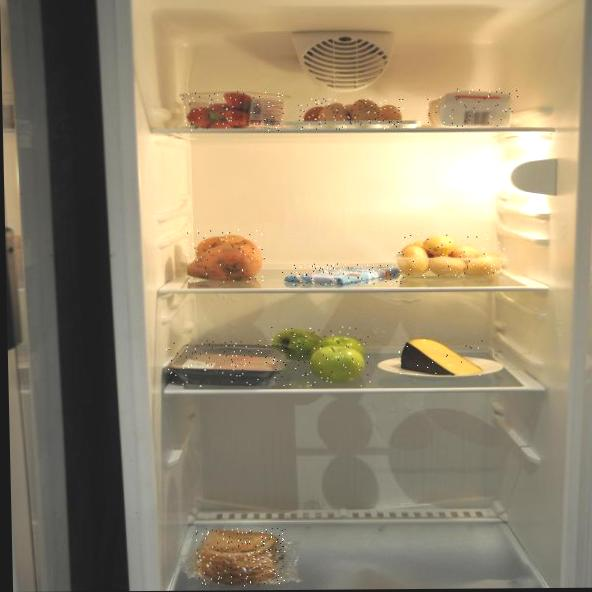apple: (271, 326, 371, 387)
bread: (195, 528, 287, 587)
cheese: (398, 337, 486, 376)
chicken_breast: (166, 340, 289, 387)
chocolate: (282, 263, 403, 286)
eggs: (298, 98, 405, 130)
potato: (393, 233, 506, 278)
strawberries: (181, 91, 284, 132)
sugar: (428, 87, 520, 127)
sweet_potato: (184, 229, 265, 284)
